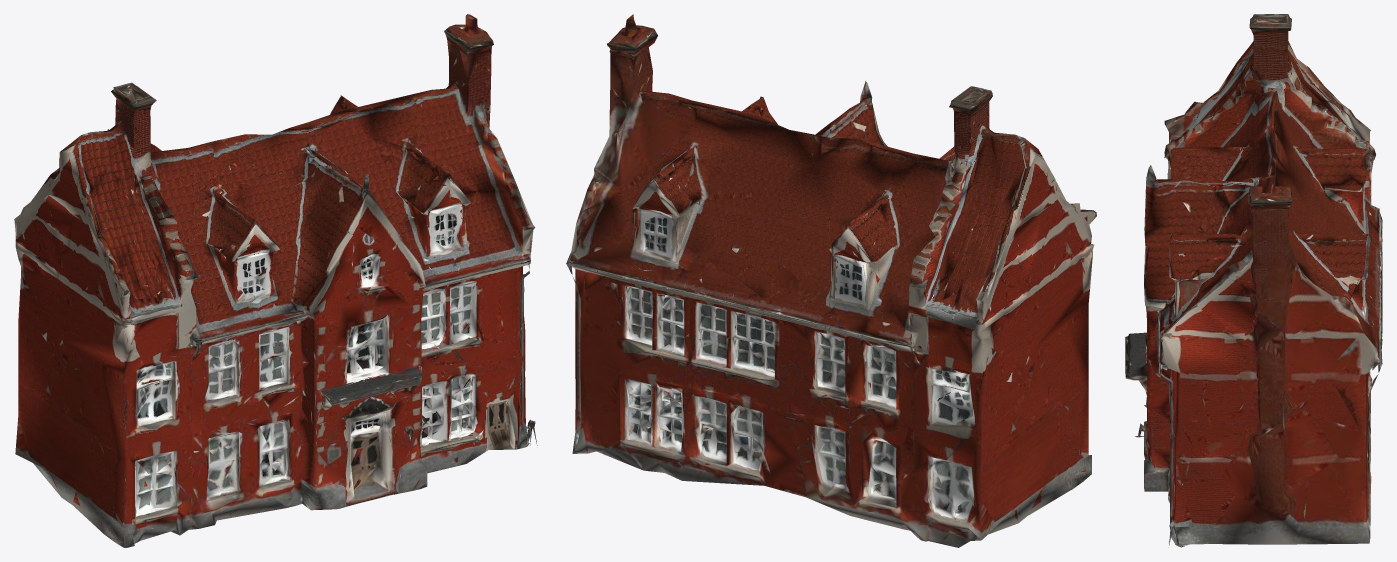
Rendered from haus-3.glb.
3 views of the same model, side by side, from view 1: azimuth 30°, elevation 25°; view 2: azimuth 150°, elevation 25°; view 3: azimuth 270°, elevation 25° (orthographic). The views are drawn at different scales.
Size of the model in its own units: 1.9 by 1.75 by 1.1.
Materials: 1 (1 with a texture image).
